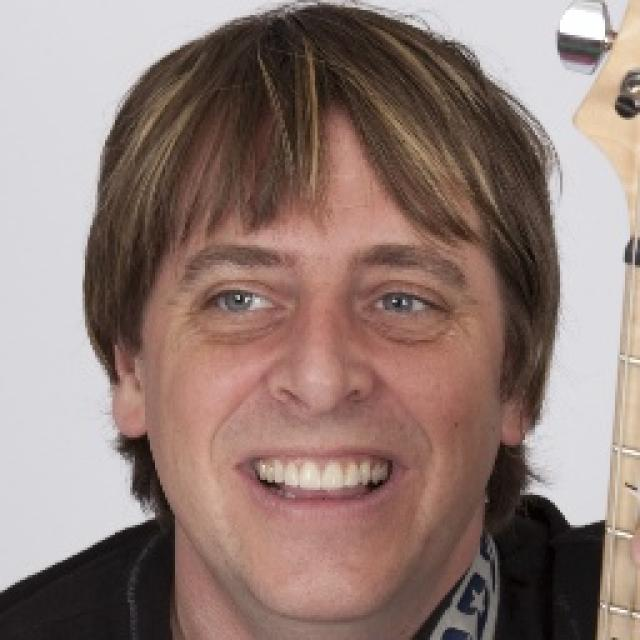earlobe: (111, 369, 147, 437), (499, 390, 536, 447)
eye: (362, 283, 446, 320), (202, 284, 280, 316)
nose: (268, 391, 376, 444)
